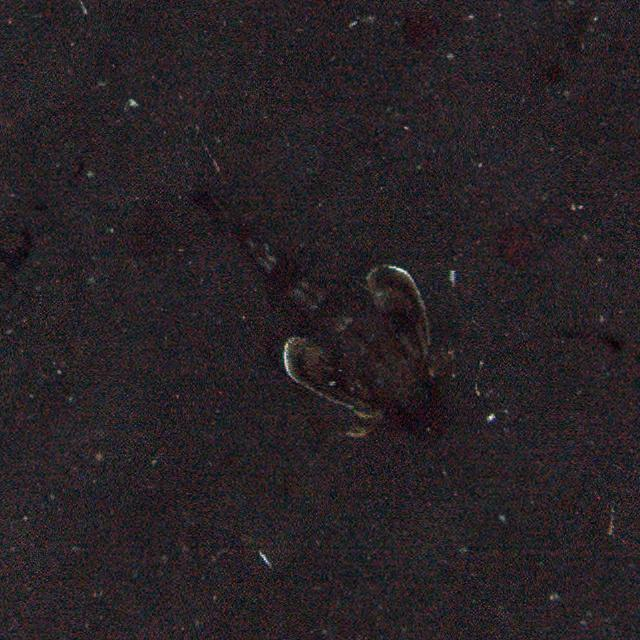roundfish: (192, 182, 457, 447)
